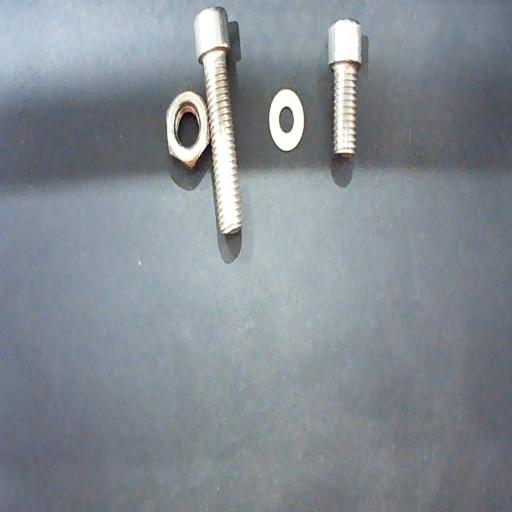nut: (165, 89, 210, 170)
screw: (194, 6, 242, 235), (327, 18, 362, 159)
washer: (268, 88, 305, 152)
